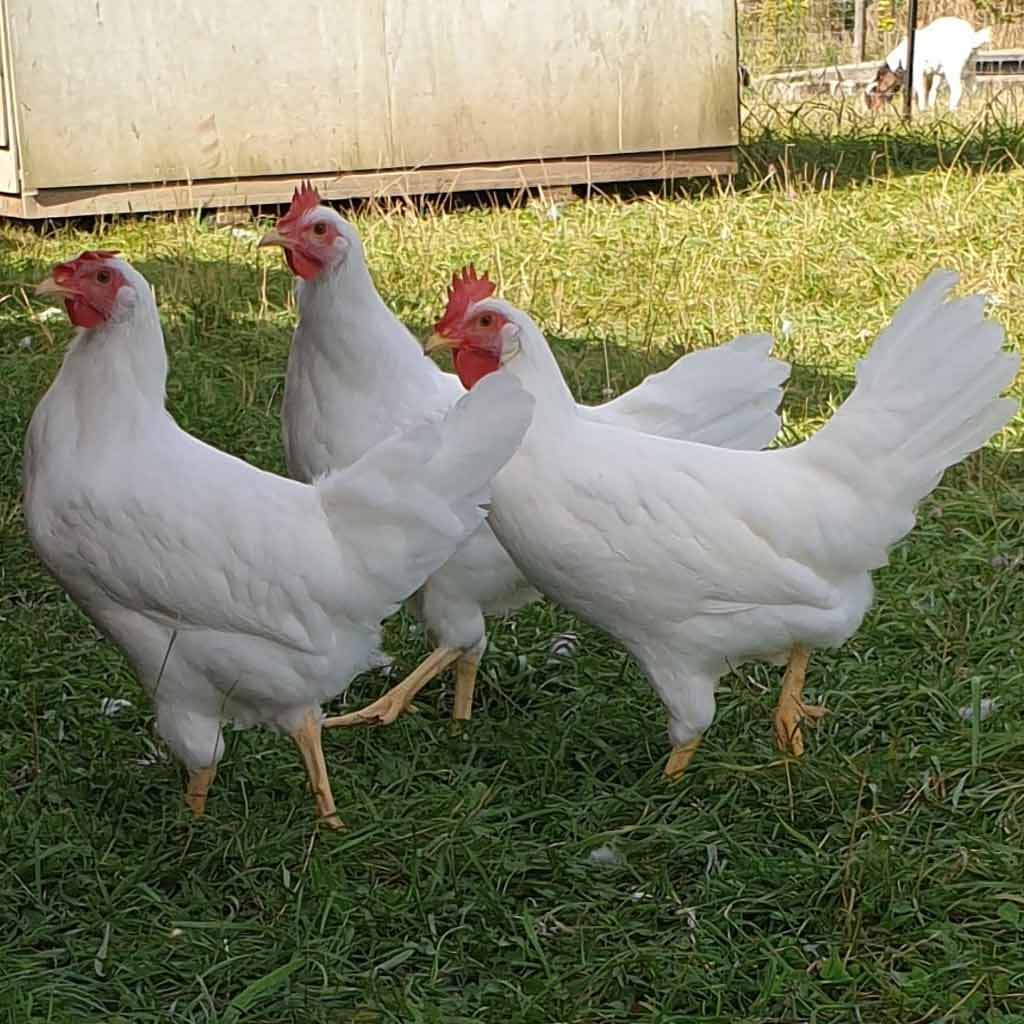Healthy: (412, 241, 596, 454), (13, 217, 197, 408), (235, 156, 403, 353)
